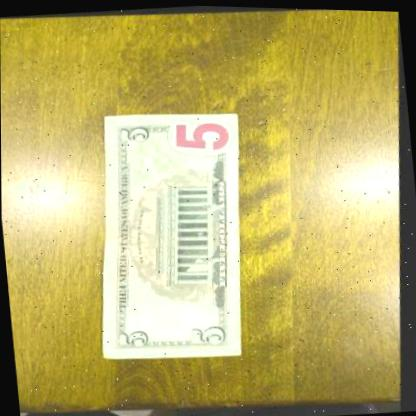dollar_back: (85, 101, 265, 366)
